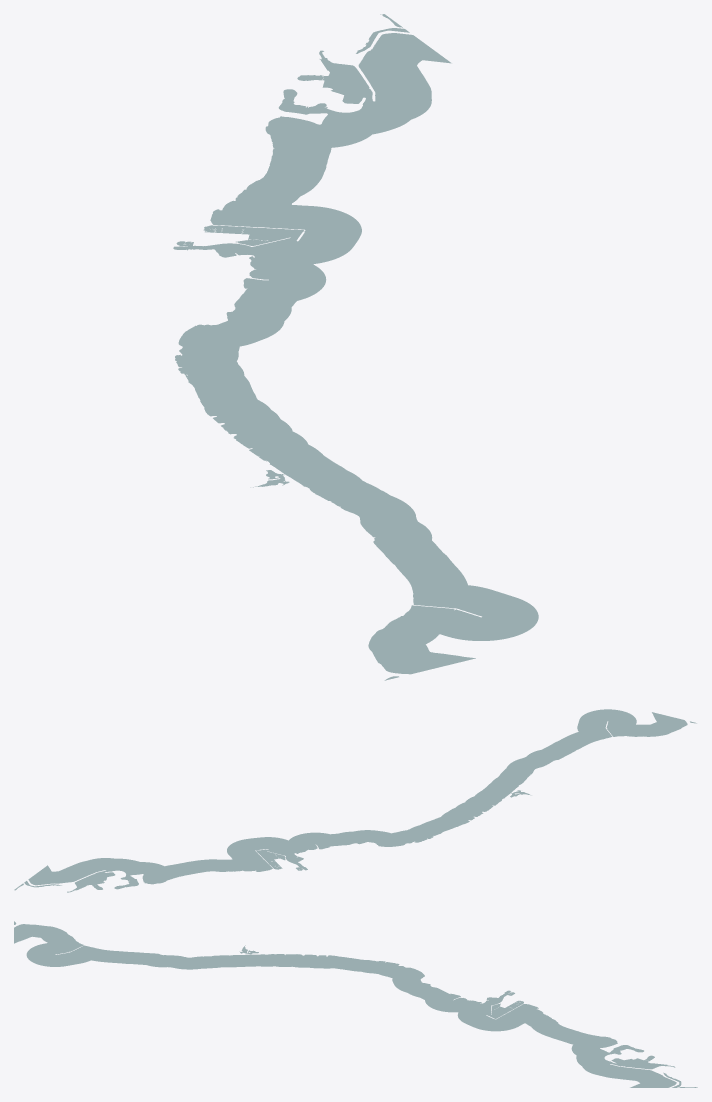
File: subway-coastal-water.glb
3 views of the same model, one above another, from view 1: azimuth 30°, elevation 25°; view 2: azimuth 150°, elevation 25°; view 3: azimuth 270°, elevation 25° (orthographic). The views are drawn at different scales.
Parts seen in each view (by area): view 1: SubwayLakeOntario; view 2: SubwayLakeOntario; view 3: SubwayLakeOntario.
Part boxes in pixels (x1,y1,x2,y2): SubwayLakeOntario: (173, 14, 538, 680); SubwayLakeOntario: (14, 709, 696, 892); SubwayLakeOntario: (14, 921, 697, 1087).
Size of the model in its own units: 5595 by 0 by 9693.
